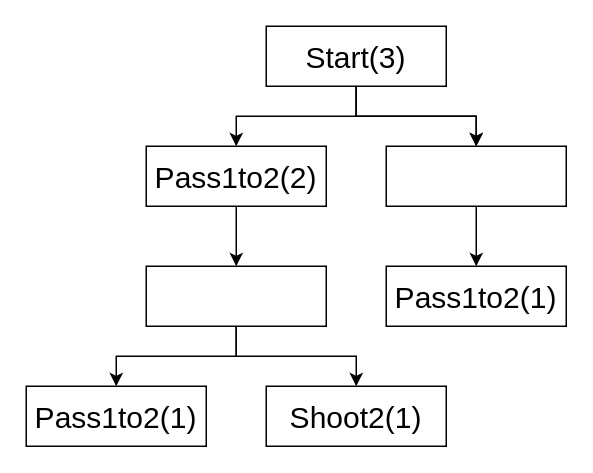
The diagram is 593 pixels wide and 473 high, and some of its shapes have lost their labels. The box of each missing label's shape, as (x1, y1, x2, y2) in pixels:
Pass2to1(1): (385, 145, 566, 206)
Pass2to1(2): (145, 265, 326, 326)
